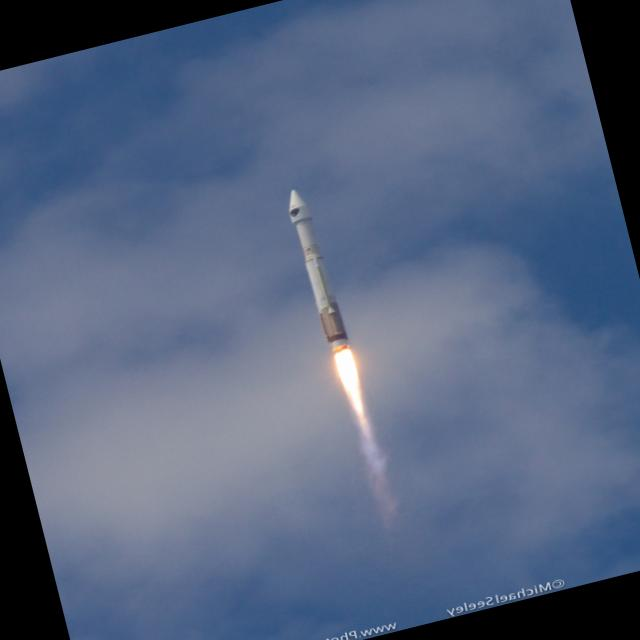rocket: (262, 169, 402, 500)
